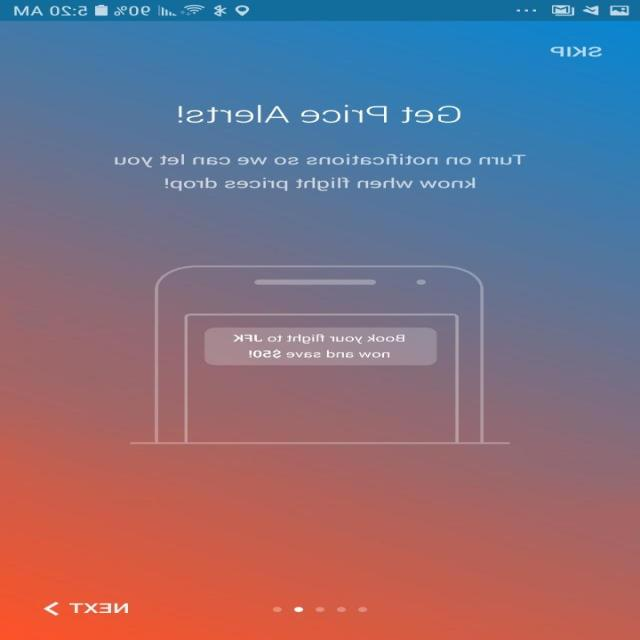Icon: (44, 601, 60, 615)
Image: (129, 265, 512, 444)
Text: (115, 154, 528, 191), (178, 105, 462, 124), (69, 602, 130, 613), (550, 46, 603, 57)
